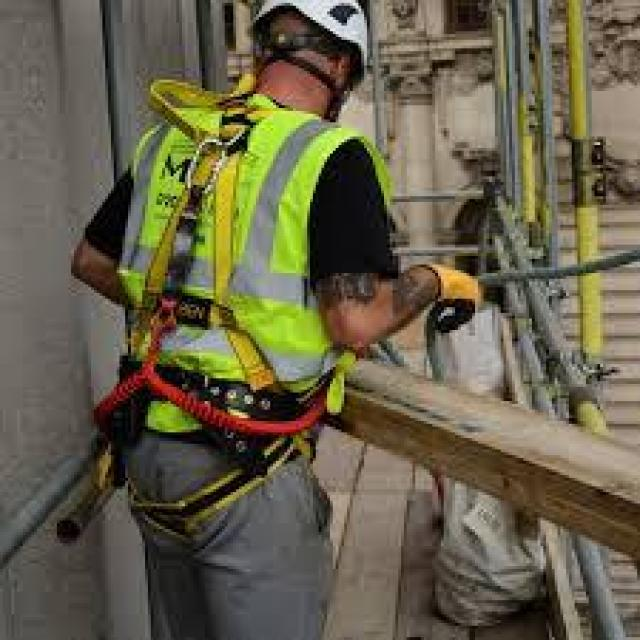Belt: (91, 64, 347, 553)
